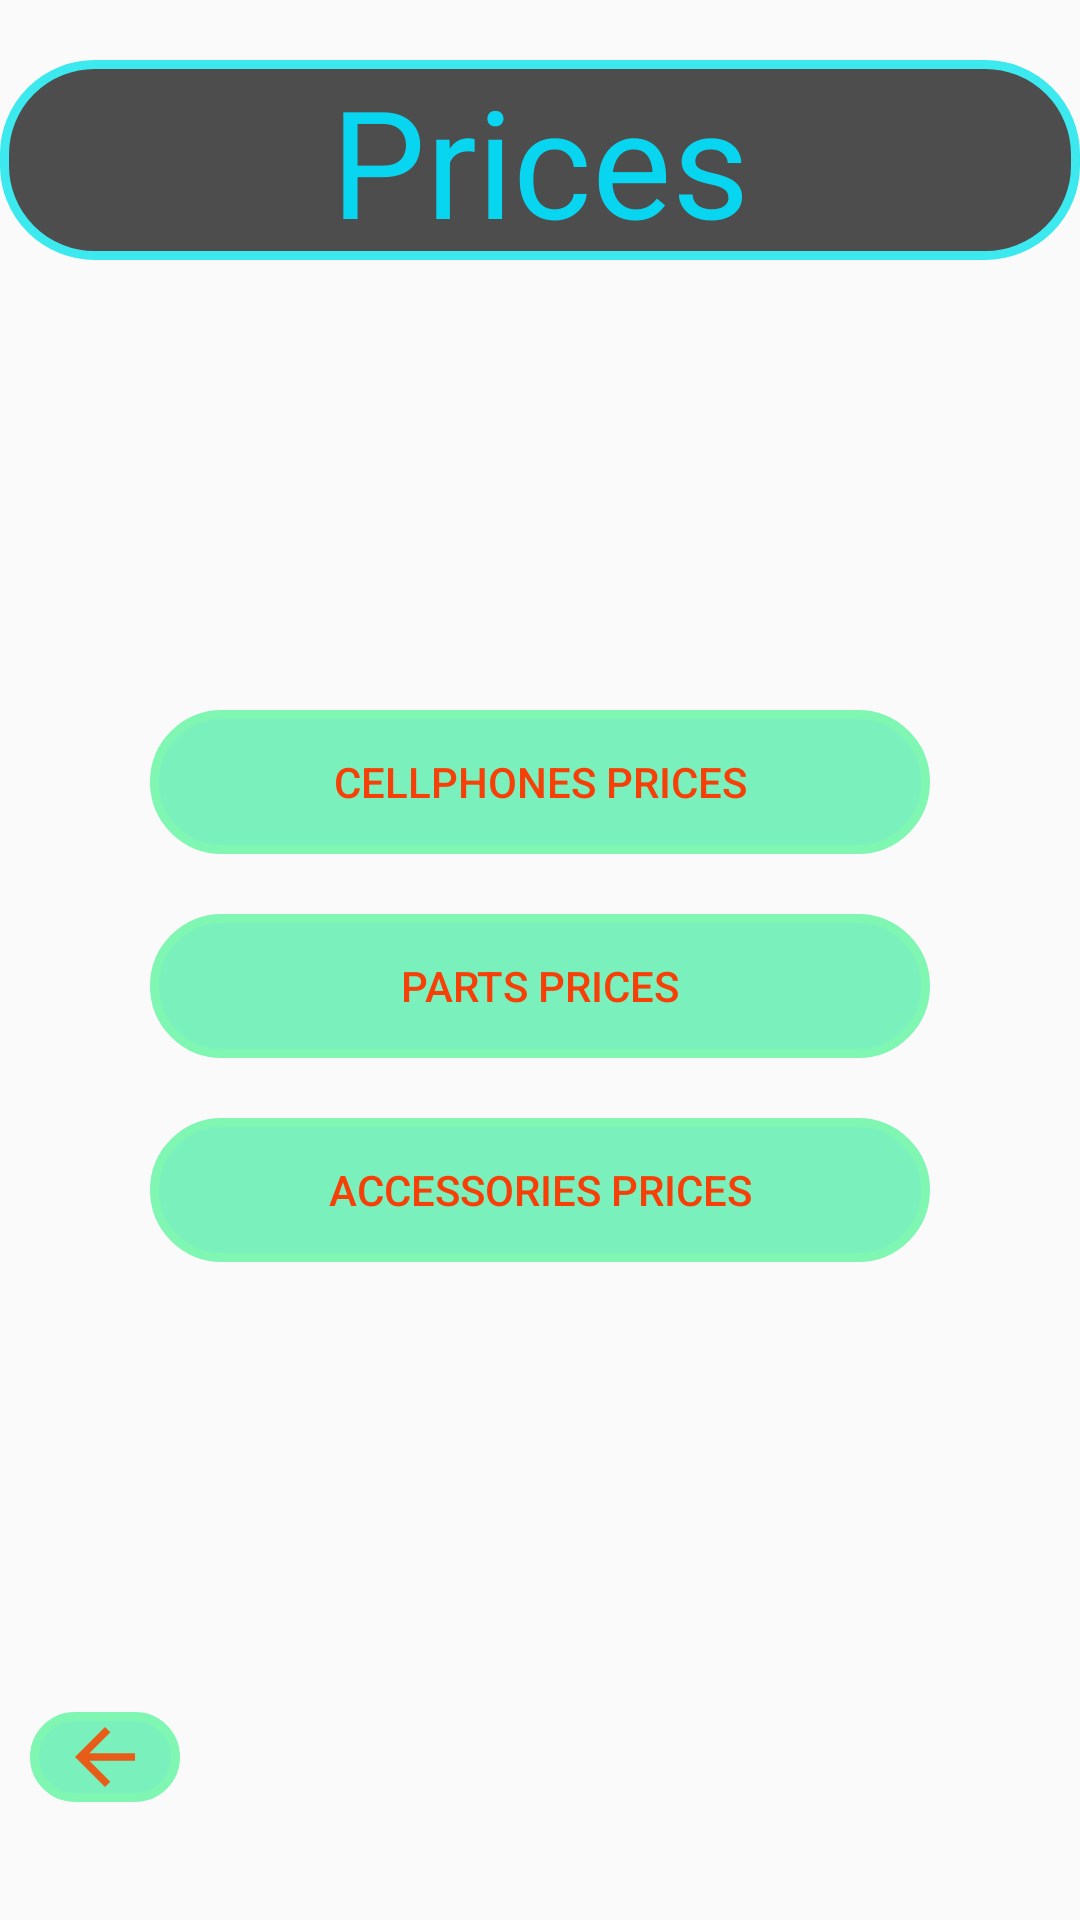

Icons on this 1080px x 1920px Android screen, each with its box as rect(x1, y1, x2, y2):
arrow back: rect(30, 1712, 180, 1802)
